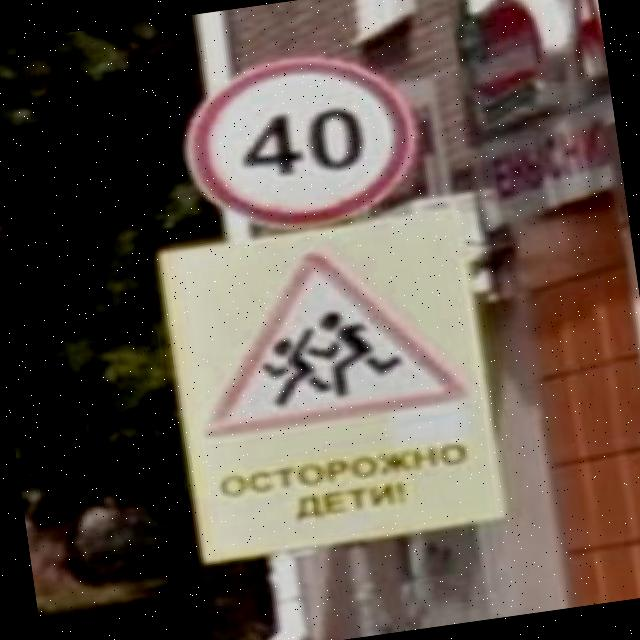Ograniczenie predkosci do 40: (174, 40, 430, 243)
